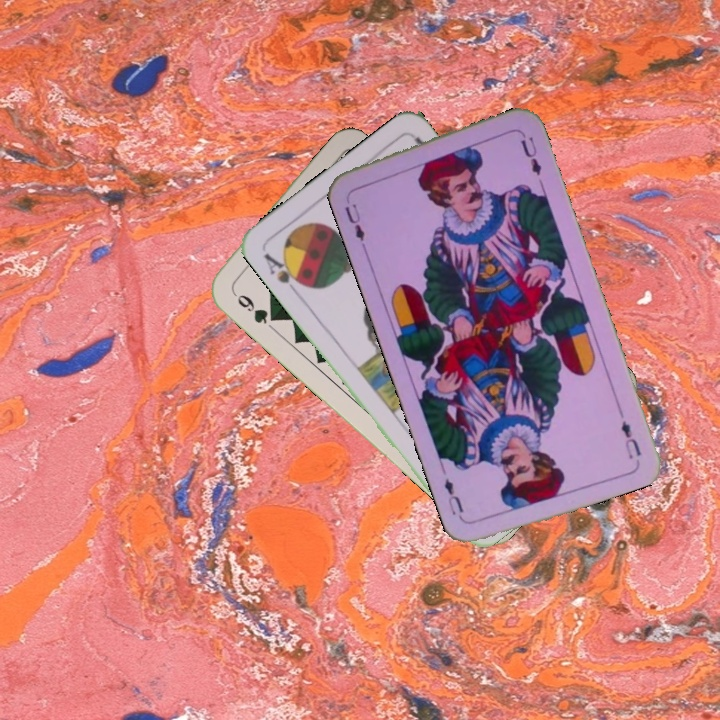EU: (341, 193, 367, 243), (617, 417, 644, 462)
G9: (228, 286, 281, 327)
SA: (260, 249, 309, 297)
